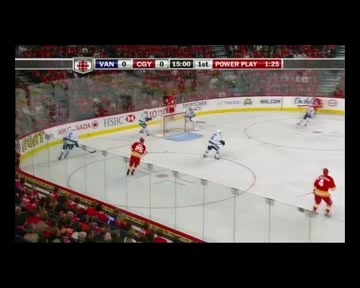normal: (305, 165, 341, 218), (119, 133, 153, 181), (199, 128, 235, 163)
